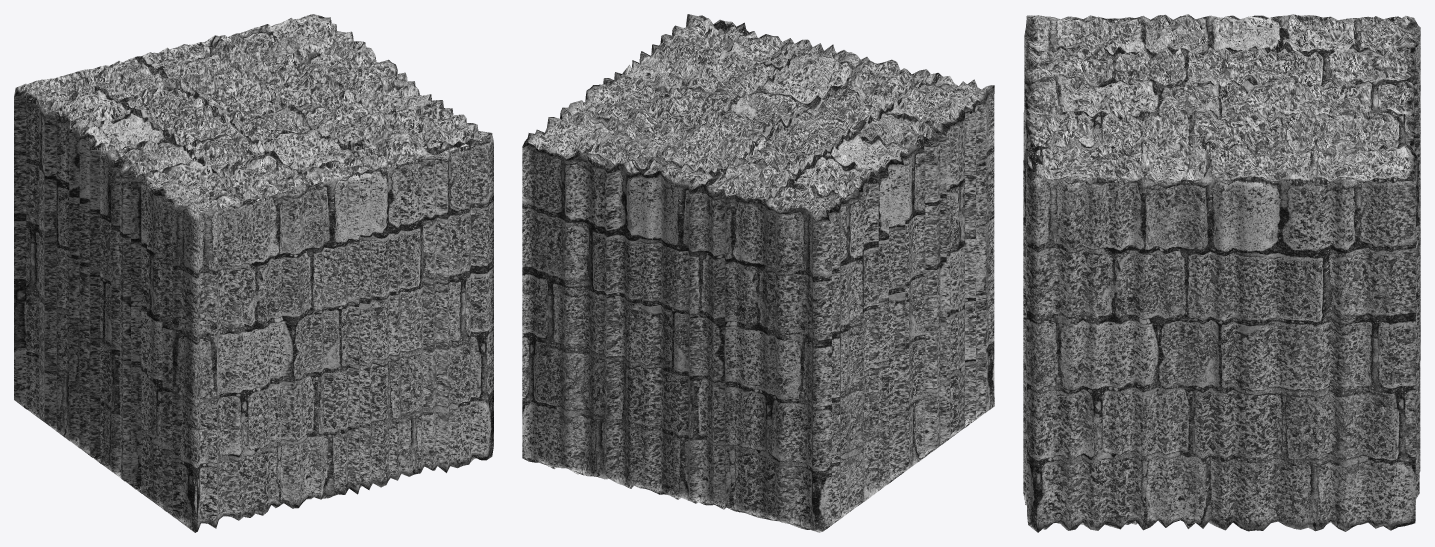
Rendered from 10241stone1.fbx.
3 renders of one model, left to right at view 1: azimuth 30°, elevation 25°; view 2: azimuth 150°, elevation 25°; view 3: azimuth 270°, elevation 25°, orthographic. The views are drawn at different scales.
Visible parts, largest first — view 1: 1024stone_1; view 2: 1024stone_1; view 3: 1024stone_1.
Part boxes in pixels (left/top/right/bottom): 1024stone_1: left=14, top=14, right=493, bottom=532; 1024stone_1: left=522, top=14, right=994, bottom=532; 1024stone_1: left=1023, top=14, right=1420, bottom=532.
Size of the model in its own units: 208 by 209 by 208.
